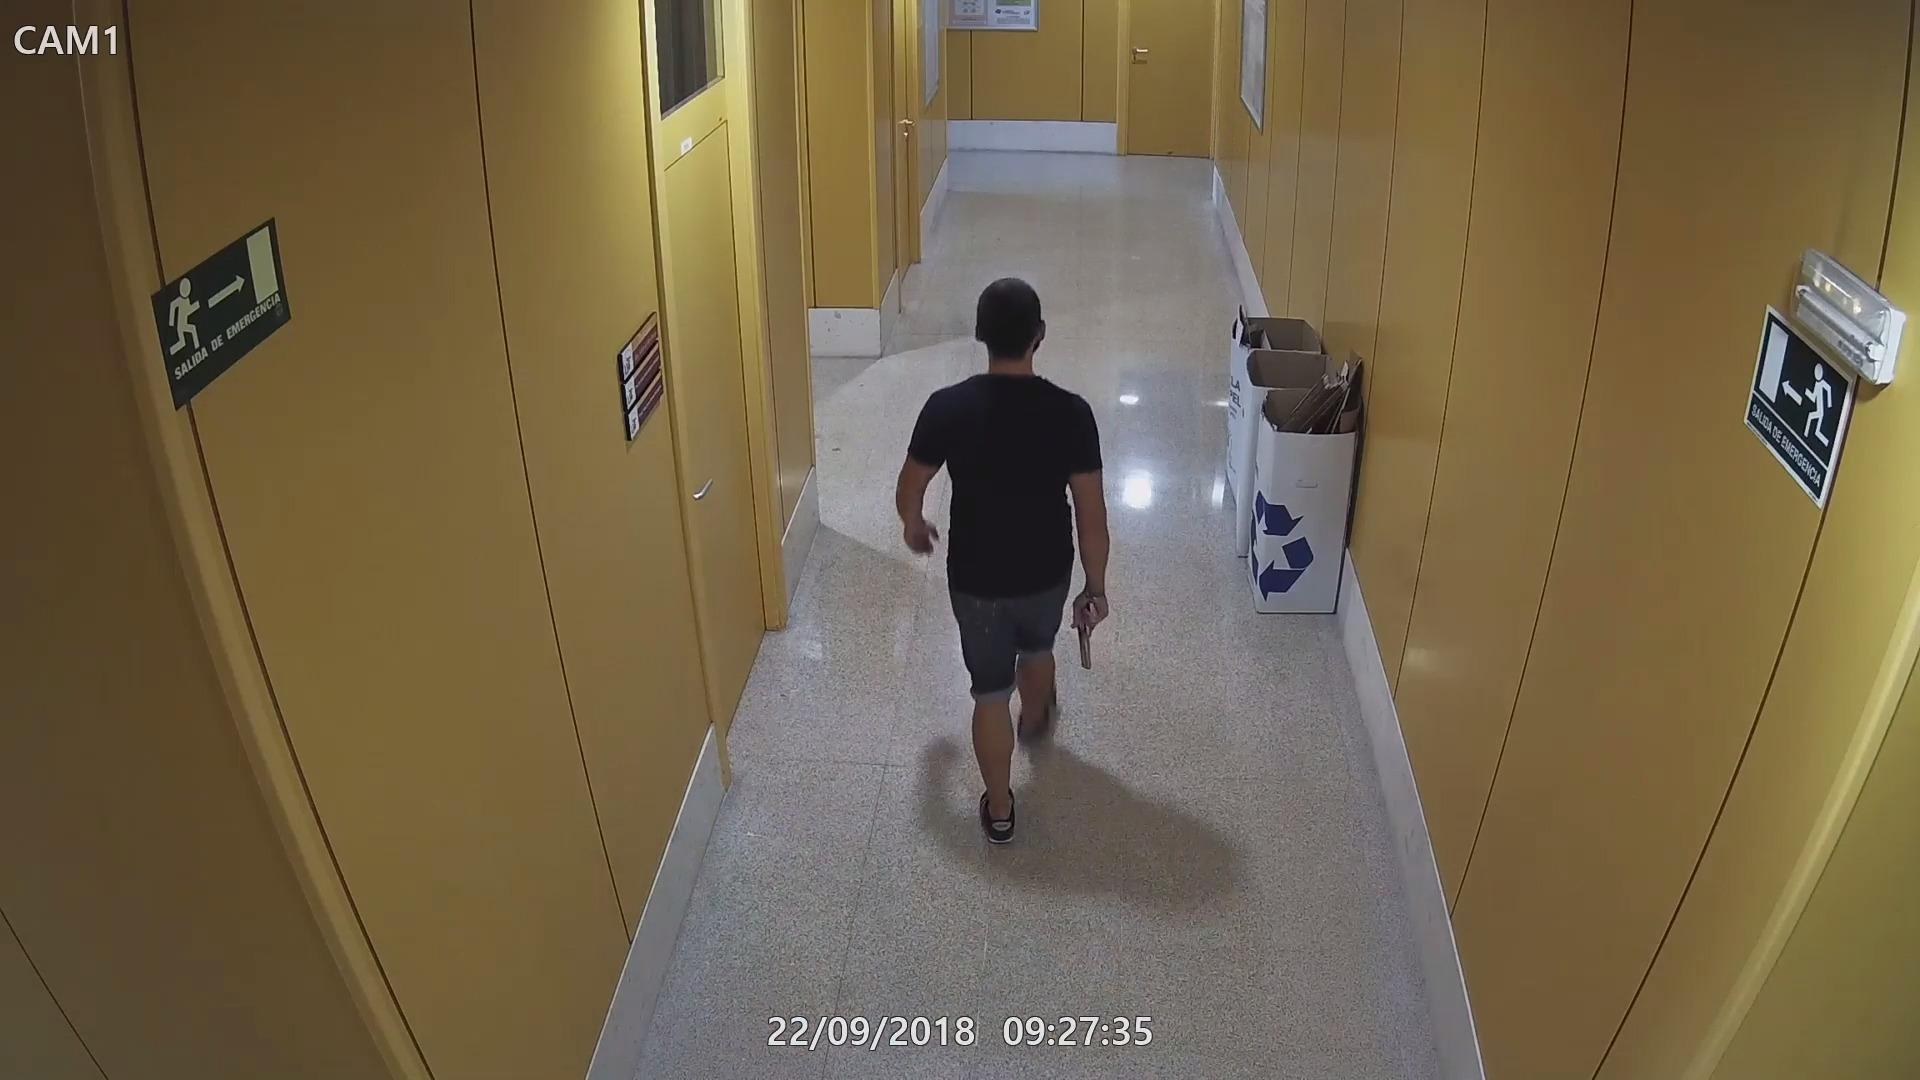Handgun: (1069, 585, 1112, 671)
